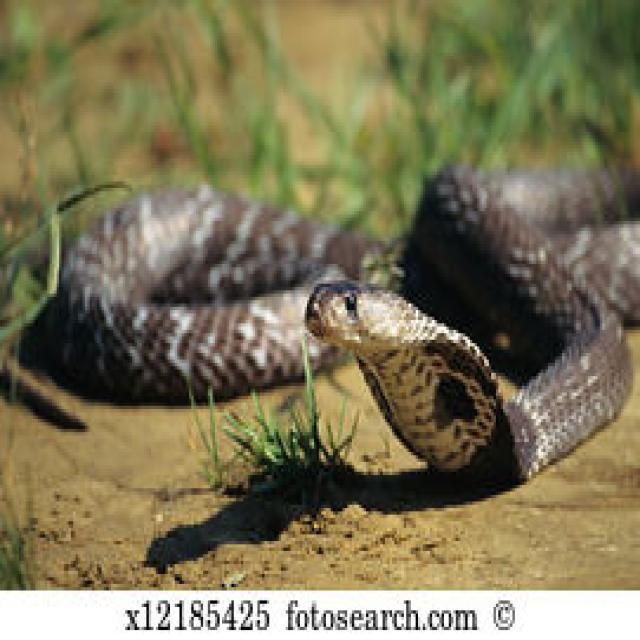Snake: (12, 152, 638, 488)
